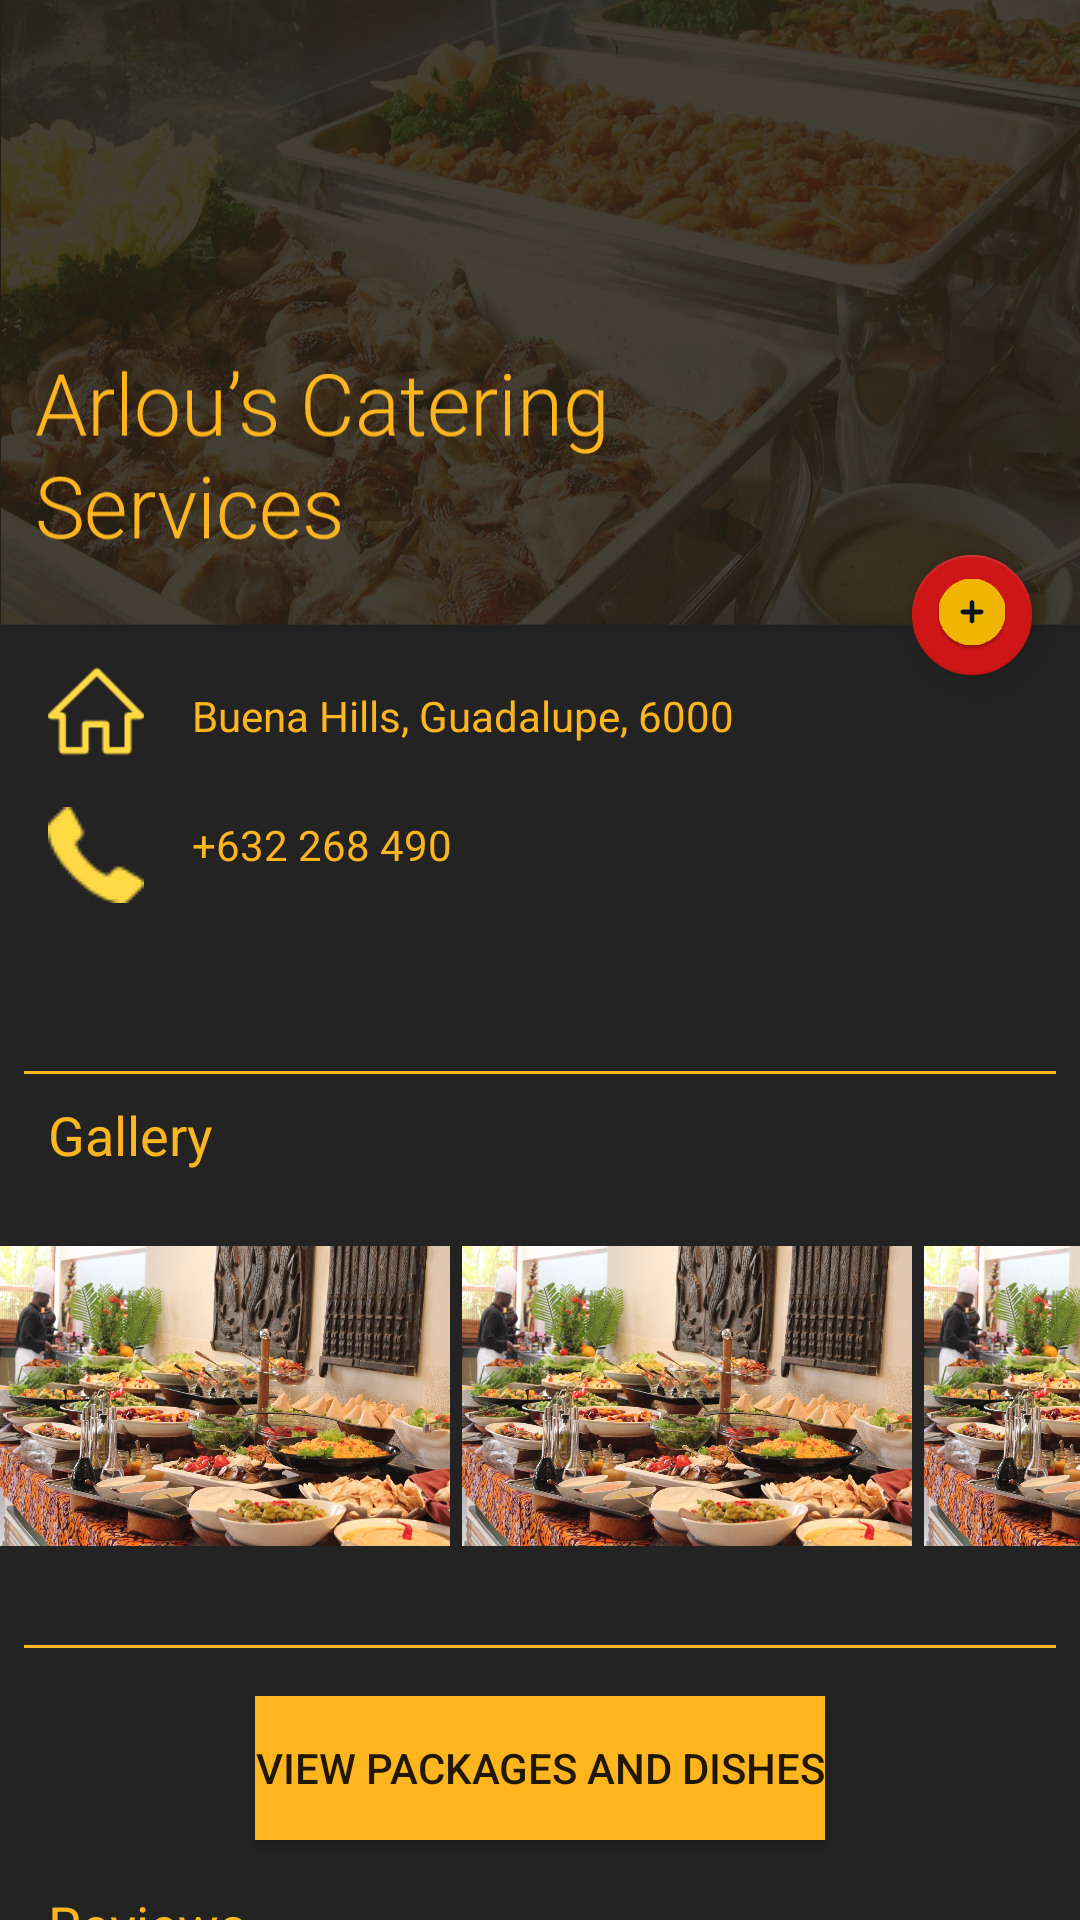

Named icons in this screenshot (1080x1920) and their centers, (x=x, y=y):
call: (x=96, y=855)
fab add order: (x=972, y=615)
home: (x=96, y=711)
